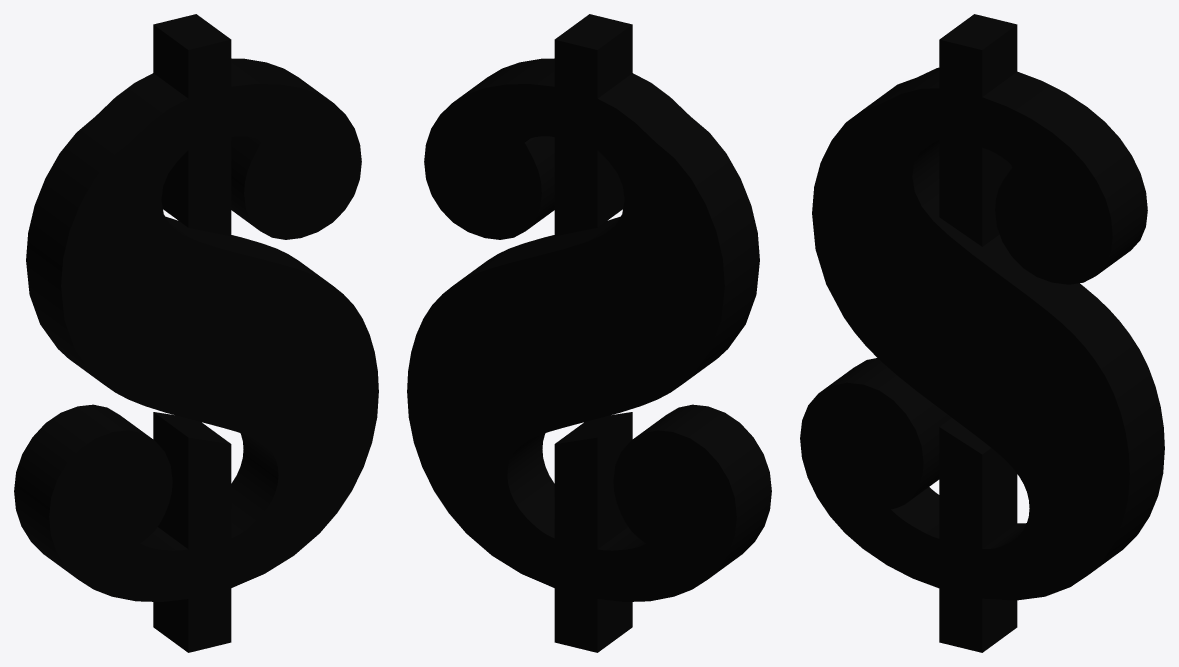
Rendered from dollar-sign.glb.
3 views of the same model, side by side, from view 1: azimuth 30°, elevation 25°; view 2: azimuth 150°, elevation 25°; view 3: azimuth 330°, elevation 25° (orthographic).
Visible parts, largest first — view 1: mesh_id71; view 2: mesh_id71; view 3: mesh_id71.
Boxes of the visible parts, x1,y1,x2,y2 form: mesh_id71: (14,14,378,652); mesh_id71: (407,14,771,652); mesh_id71: (800,14,1164,652).
Size of the model in its own units: 0.4484 by 0.7831 by 0.0825.
1 material, 1 textured.
